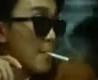smoke: (43, 51, 69, 61)
